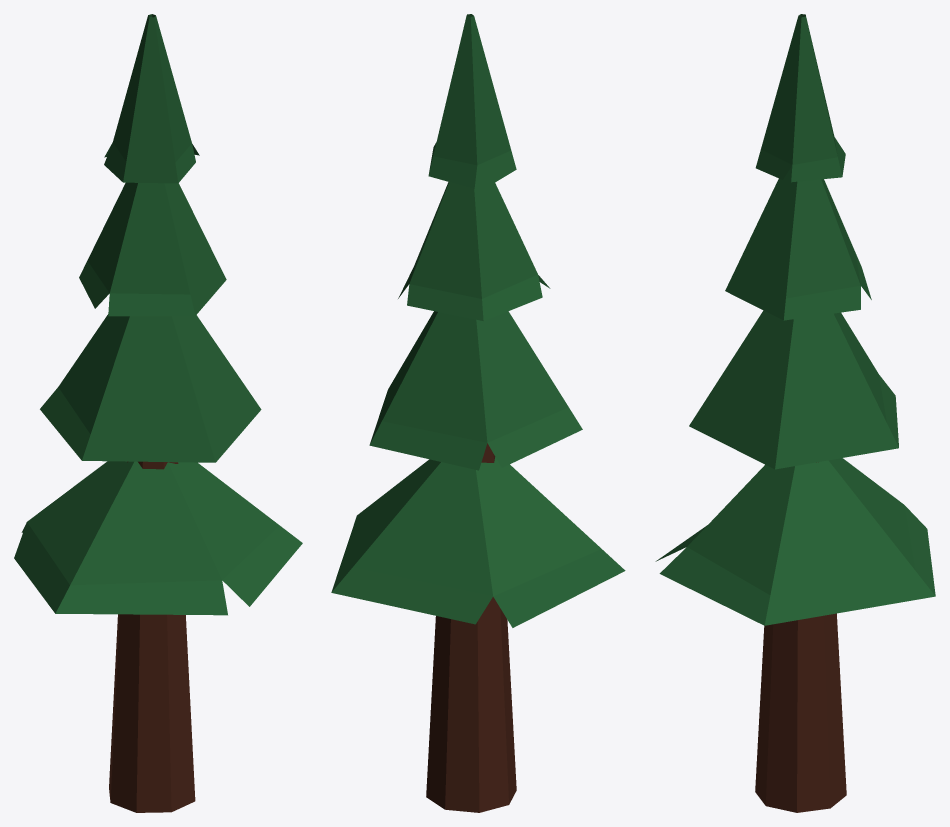
Rendered from Tree_4.fbx.
3 views of the same model, side by side, from view 1: azimuth 30°, elevation 25°; view 2: azimuth 150°, elevation 25°; view 3: azimuth 270°, elevation 25° (orthographic).
Parts seen in each view (by area): view 1: Circle, Circle.003, Cylinder.002, Circle.002, Circle.001; view 2: Circle, Circle.003, Cylinder.002, Circle.002, Circle.001; view 3: Circle, Circle.003, Cylinder.002, Circle.002, Circle.001.
Part boxes in pixels (x1,y1,x2,y2): Circle: (14,461,302,615); Circle.003: (40,314,261,462); Cylinder.002: (109,461,195,812); Circle.002: (79,182,226,316); Circle.001: (104,14,199,183); Circle: (331,457,625,627); Circle.003: (369,311,582,470); Cylinder.002: (426,443,516,812); Circle.002: (398,166,550,320); Circle.001: (428,14,516,188); Circle: (655,458,935,625); Circle.003: (689,310,898,469); Cylinder.002: (755,462,846,812); Circle.002: (725,166,871,320); Circle.001: (755,14,845,182).
Size of the model in its own units: 63.63 by 183 by 60.11.
